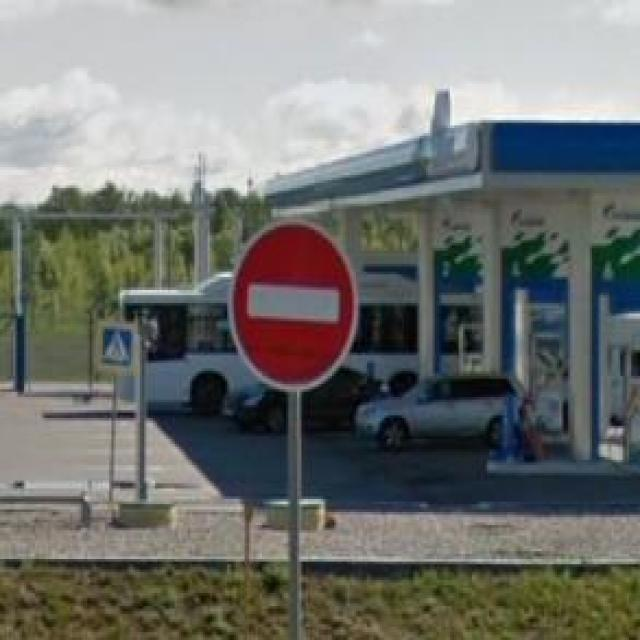Przejscie dla pieszych: (94, 319, 140, 376)
Zakaz wjazdu: (228, 217, 360, 392)
